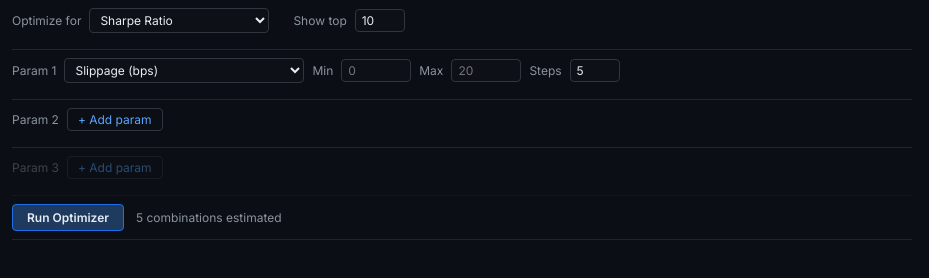
Test: OptimizerPanel runOptimizer validation — ordered branches › branch 5: rejects non-numeric Steps
The image size is (929, 278).
Clear the number field next to "Steps". click: (595, 70)
box: [570,59,620,82]
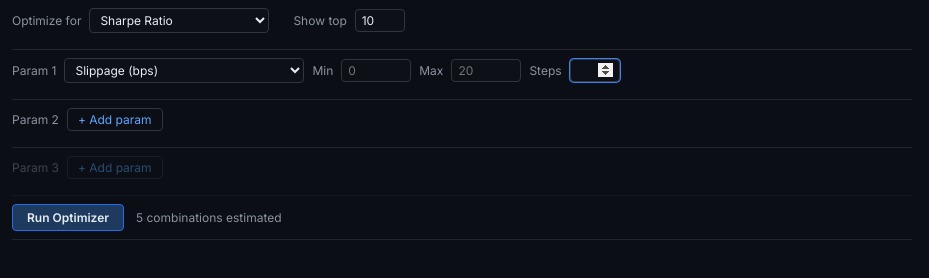
Click the button "Run Optimizer". click: (68, 218)
box: [12,204,124,231]
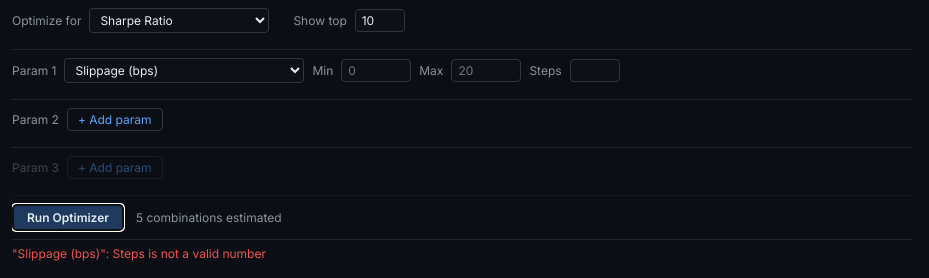
Expected: the text "\"Slippage (bps)\": Steps is not a valid number" is shown, [12,246,266,261]
